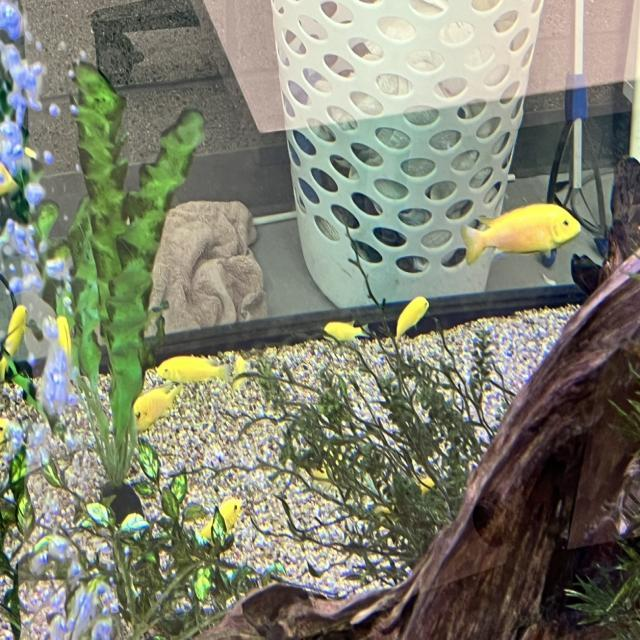YellowCichlid: (454, 192, 580, 272), (135, 384, 180, 436), (388, 289, 429, 346), (200, 492, 252, 536), (153, 352, 213, 382), (315, 321, 373, 346), (5, 301, 29, 356), (56, 316, 68, 348)
